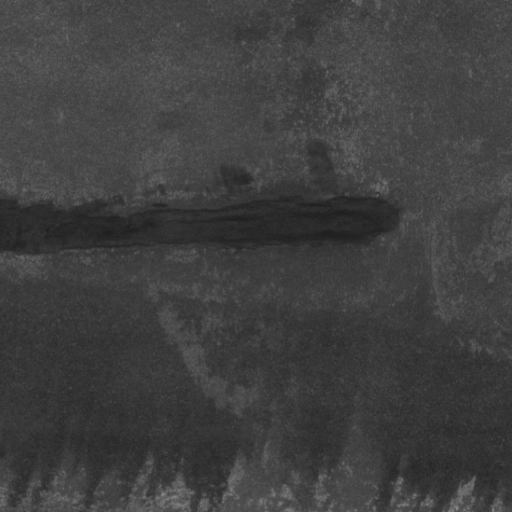aokeng: (4, 189, 405, 257)
